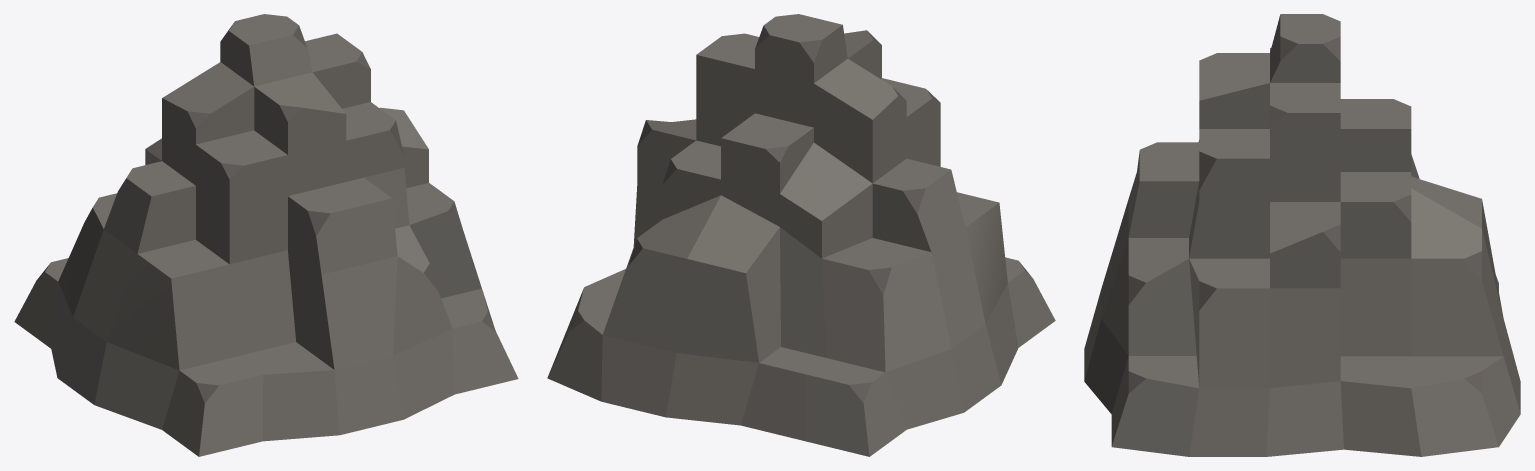
The model's file is SM_Env_RockPile_Square_06.glb.
3 renders of one model, left to right at view 1: azimuth 30°, elevation 25°; view 2: azimuth 150°, elevation 25°; view 3: azimuth 270°, elevation 25°, orthographic. The views are drawn at different scales.
Parts seen in each view (by area): view 1: SM_Env_RockPile_Square_06; view 2: SM_Env_RockPile_Square_06; view 3: SM_Env_RockPile_Square_06.
Part boxes in pixels (left/top/right/bottom): SM_Env_RockPile_Square_06: left=14, top=14, right=518, bottom=456; SM_Env_RockPile_Square_06: left=547, top=14, right=1055, bottom=456; SM_Env_RockPile_Square_06: left=1084, top=14, right=1520, bottom=456.
Size of the model in its own units: 0.0272 by 0.0228 by 0.0268.
1 material, 1 textured.
